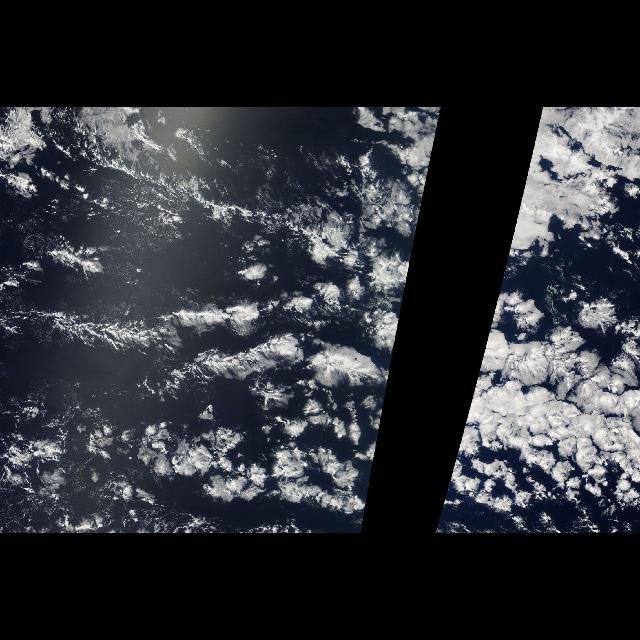Fish: (27, 298, 183, 354)
Flower: (112, 252, 414, 516), (440, 252, 640, 516)
Sugar: (72, 165, 208, 265)
